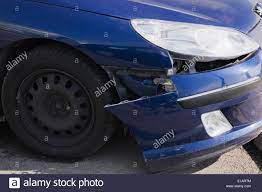front-bumper-dent: (98, 40, 260, 163)
